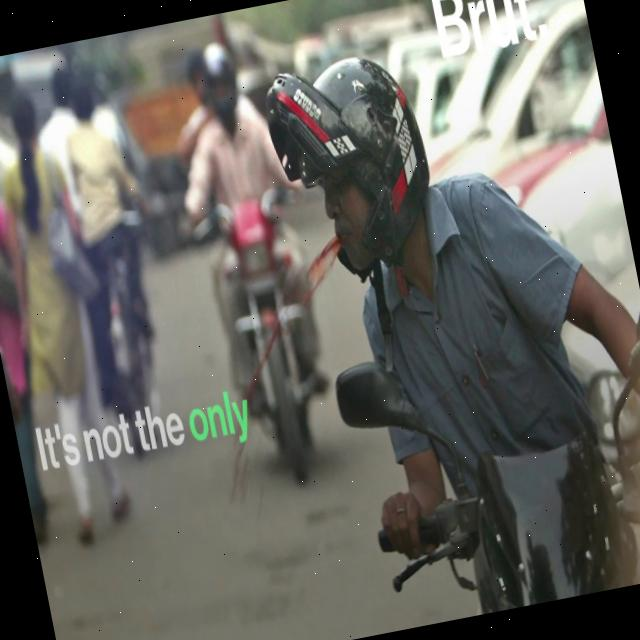spit: (183, 185, 368, 510)
